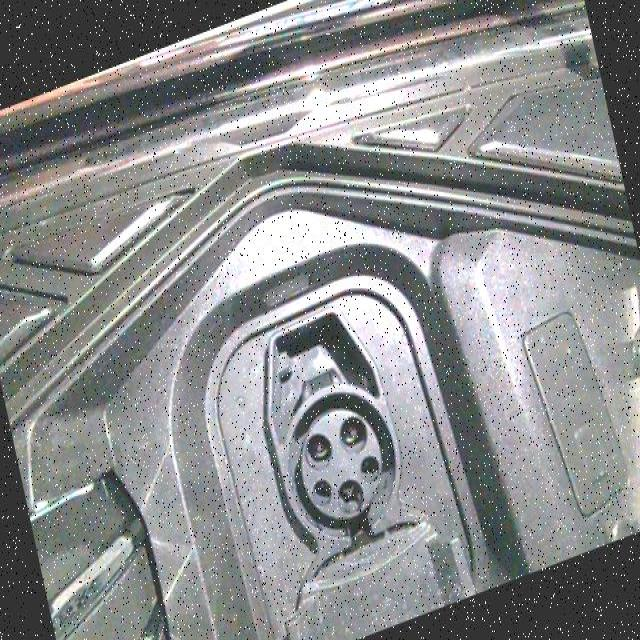Type 1: (283, 402, 406, 530)
